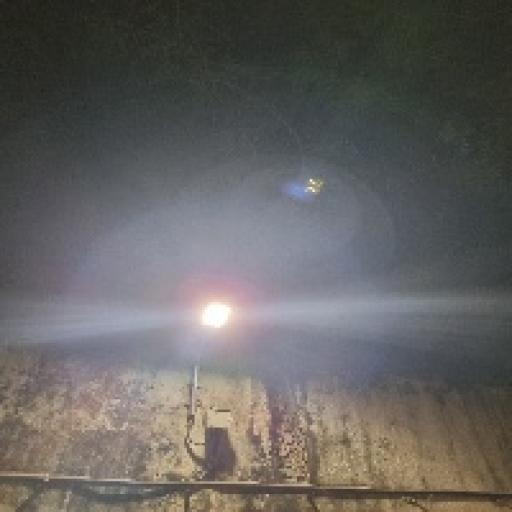Working: (192, 295, 236, 337)
